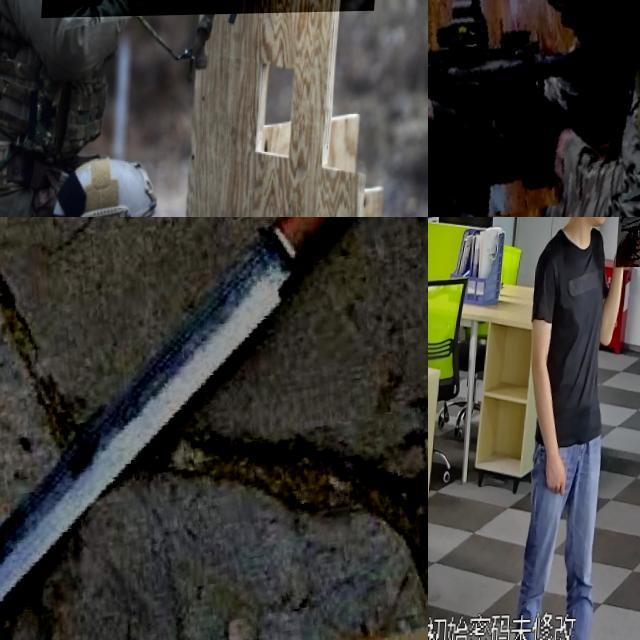-: (0, 217, 428, 640)
gun-knife-thesis - v11 Yolov5 augmented: (428, 0, 640, 217), (46, 0, 390, 107), (618, 217, 640, 269)
